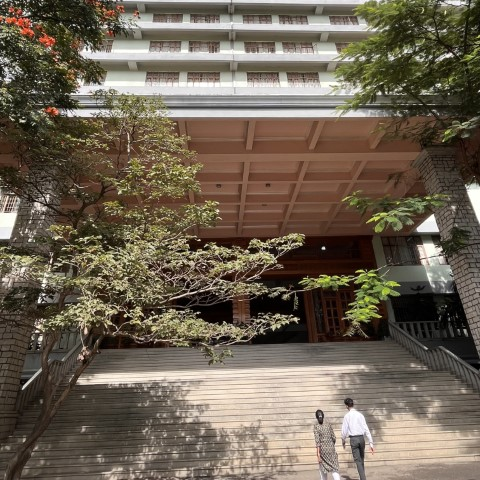Central Block: (115, 6, 480, 480)
